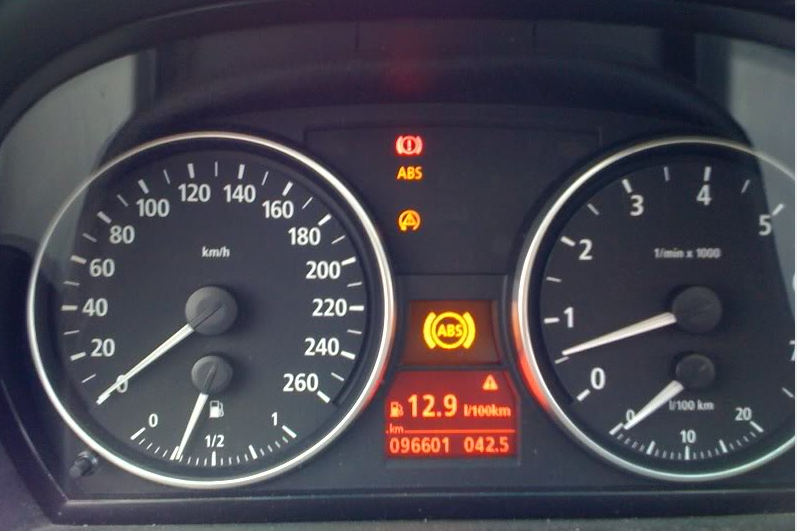ABS: (392, 163, 428, 185)
